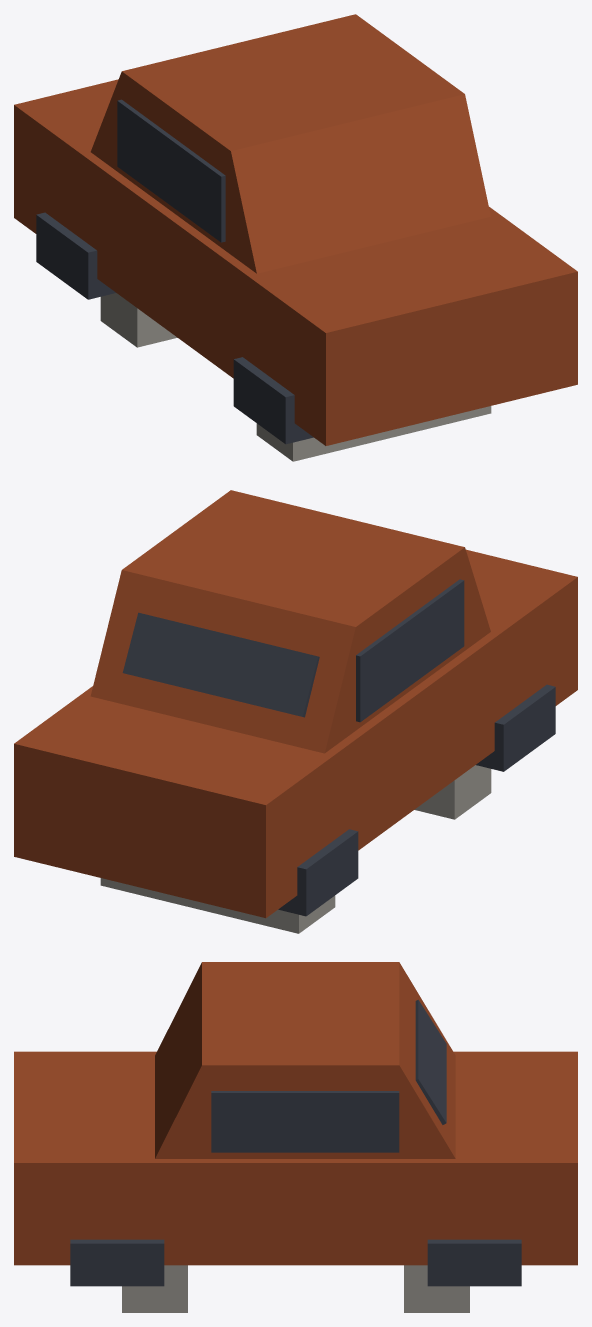
The model's file is carcaca_carro.glb.
3 views of the same model, one above another, from view 1: azimuth 30°, elevation 25°; view 2: azimuth 150°, elevation 25°; view 3: azimuth 270°, elevation 25° (orthographic). The views are drawn at different scales.
Visible parts, largest first — view 1: corpo; view 2: corpo; view 3: corpo.
Part boxes in pixels (box(x1,y1,x2,y2)): corpo: box(14, 14, 577, 461); corpo: box(14, 490, 577, 933); corpo: box(14, 962, 577, 1312).
Size of the model in its own units: 0.3 by 0.3 by 0.6.
